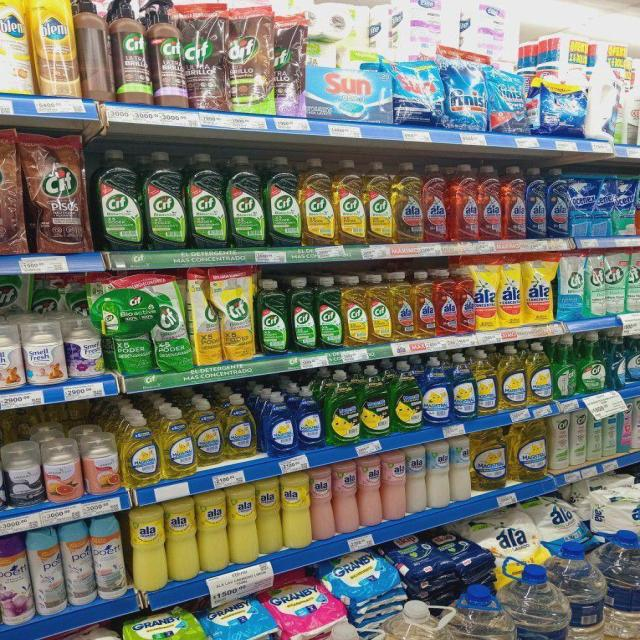ala_conc_amarillo: (393, 161, 423, 243), (391, 271, 414, 341), (414, 270, 435, 339)
ala_conc_azul: (547, 169, 569, 238), (526, 167, 546, 238)
ala_conc_rojo: (449, 163, 478, 242), (423, 163, 448, 242), (478, 164, 502, 240), (503, 166, 525, 240), (436, 269, 457, 336), (457, 266, 474, 334)
ala_crem_amarillo: (130, 505, 166, 591), (166, 498, 198, 582), (198, 492, 228, 572), (228, 484, 257, 564), (282, 472, 310, 549), (257, 479, 282, 555)
ala_crem_blanco: (428, 440, 450, 508), (451, 436, 472, 502), (406, 446, 426, 514)
ala_crem_rosado: (334, 461, 358, 534), (358, 455, 382, 527), (311, 468, 334, 542), (382, 451, 406, 520)
ala_sachet_amarillo: (524, 252, 555, 324), (498, 254, 523, 328), (474, 256, 497, 332)
cif_conc_bot_amarilla: (301, 157, 334, 246), (334, 158, 364, 245), (366, 161, 392, 244), (342, 275, 368, 347), (368, 273, 391, 344)
cif_conc_botella_verde: (94, 149, 142, 251), (144, 150, 186, 250), (187, 152, 226, 248), (227, 154, 264, 247), (266, 155, 300, 247), (257, 279, 288, 355), (289, 276, 315, 352), (316, 276, 342, 350), (0, 273, 27, 318)
cif_conc_sachet_amarillo: (222, 266, 255, 360), (192, 267, 220, 365)
cif_conc_sachet_verde: (154, 271, 190, 372), (605, 249, 626, 314), (627, 248, 640, 312)
magistral_con_amarillo: (121, 410, 159, 487), (161, 406, 194, 478), (509, 420, 547, 482), (224, 393, 256, 460), (473, 429, 507, 491), (194, 397, 223, 466), (498, 344, 526, 410), (527, 343, 552, 405), (476, 348, 497, 416)
magistral_con_azul: (260, 390, 295, 456), (422, 356, 451, 425), (296, 386, 323, 450), (452, 353, 476, 421), (626, 330, 640, 383)
magistral_con_crema: (83, 423, 120, 494)
